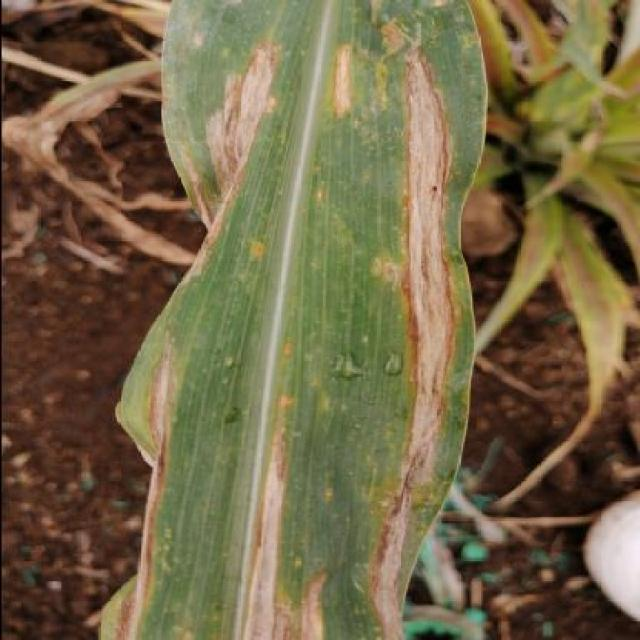Corn_Leaf_Blight: (112, 6, 491, 640)
